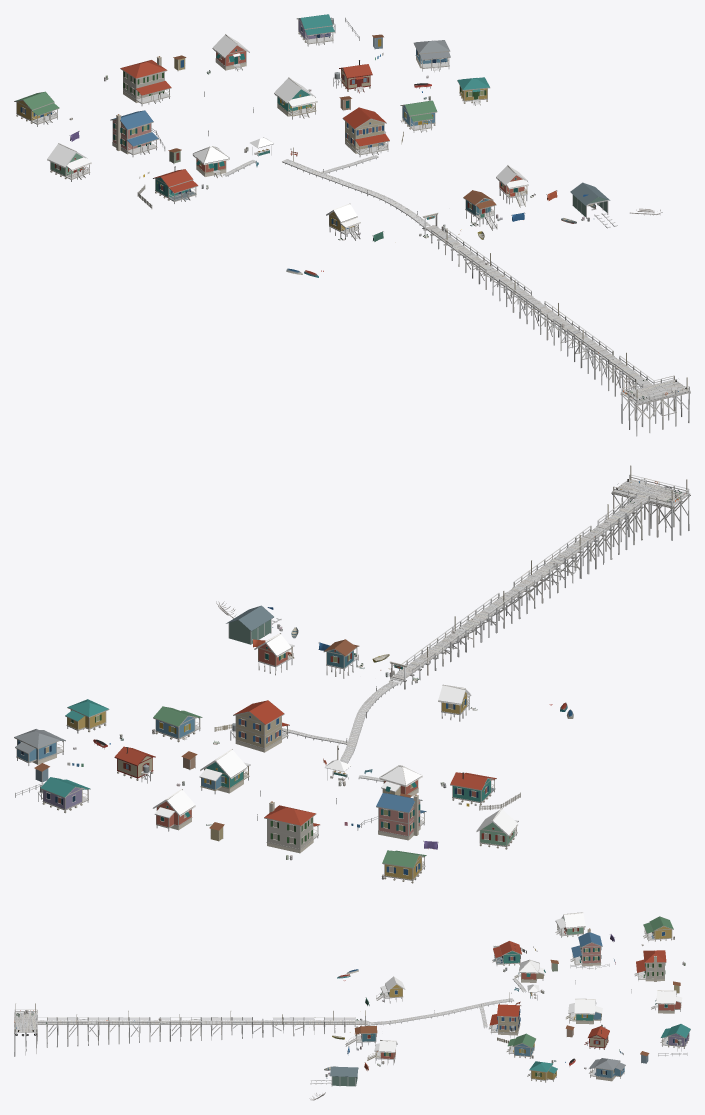
File: village-low.glb
The picture shows the model from 3 angles, top to bottom: view 1: azimuth 30°, elevation 25°; view 2: azimuth 150°, elevation 25°; view 3: azimuth 270°, elevation 25°; orthographic projection. The views are drawn at different scales.
Parts seen in each view (by area): view 1: Procedural village; view 2: Procedural village; view 3: Procedural village.
Boxes of the visible parts, <box> form: Procedural village: <box>14,14,690,436</box>; Procedural village: <box>14,465,690,883</box>; Procedural village: <box>14,912,690,1100</box>.
Size of the model in its own units: 112 by 20.37 by 200.
